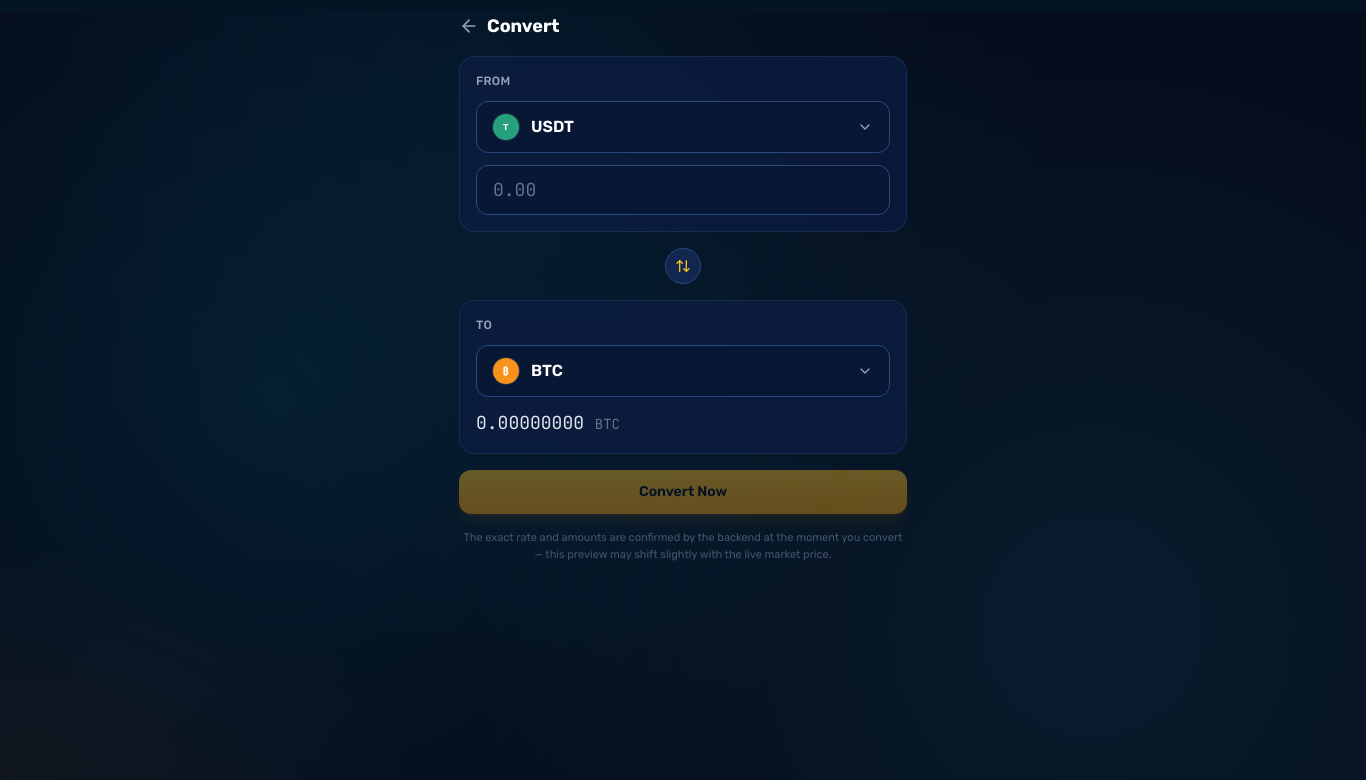
it: ConvertPage › shows the backend error on failure, never claims success
Type "100" into the number field with placeholder "0.00" at (683, 190), box [476,165,890,215]
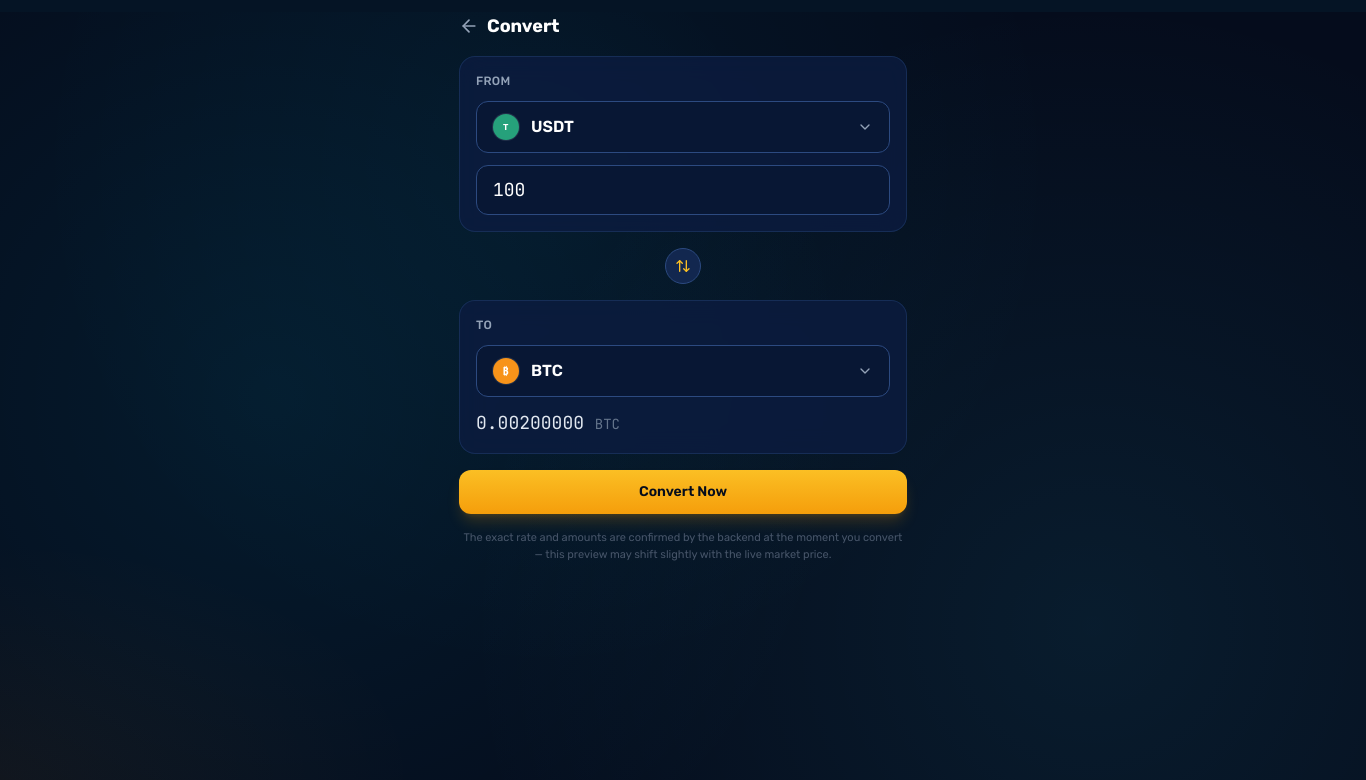
Click the button "Convert Now" at (683, 492), box [459,470,907,514]
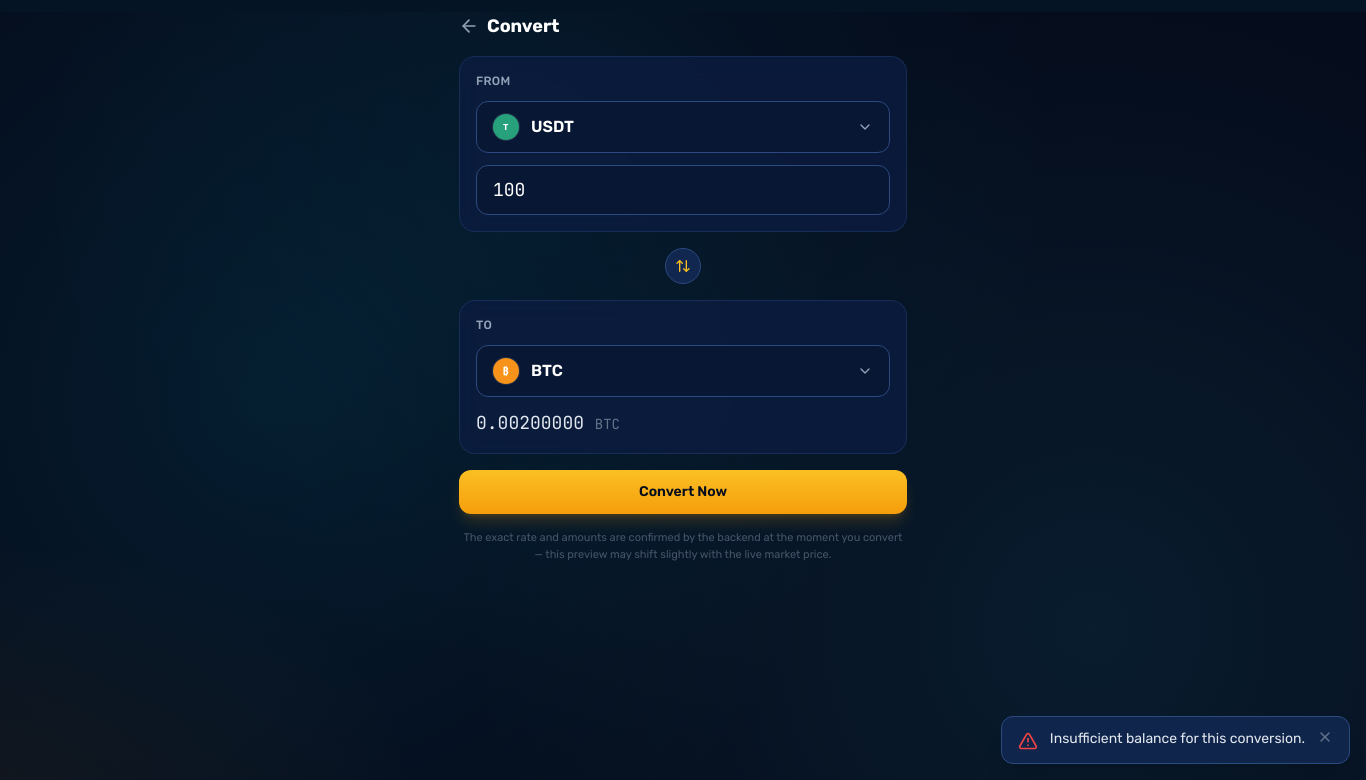
Now the text "Insufficient balance for this conversion." is shown, box [1050,729,1305,749]
